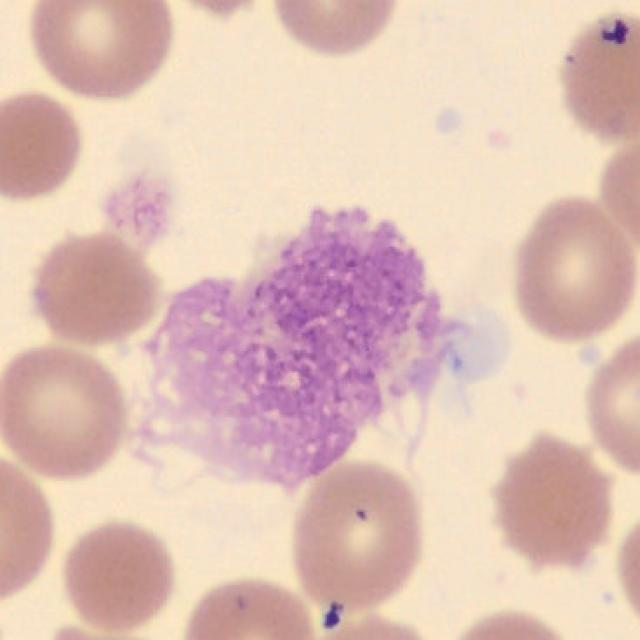Restos celulares: (111, 208, 471, 494)
